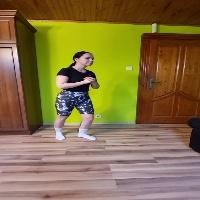lunges: (49, 45, 101, 152)
